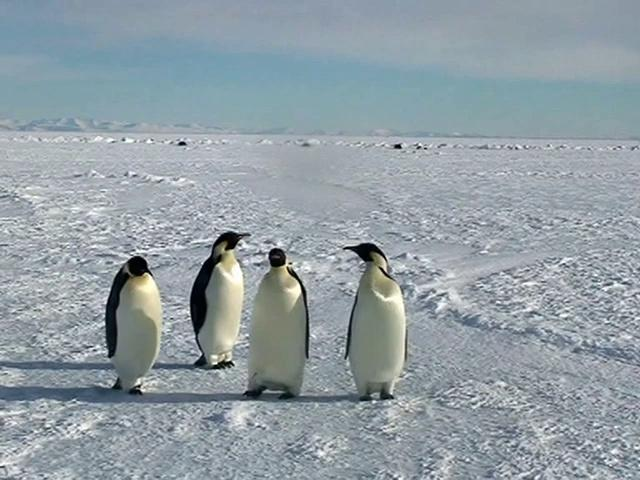animal: (343, 242, 407, 399)
